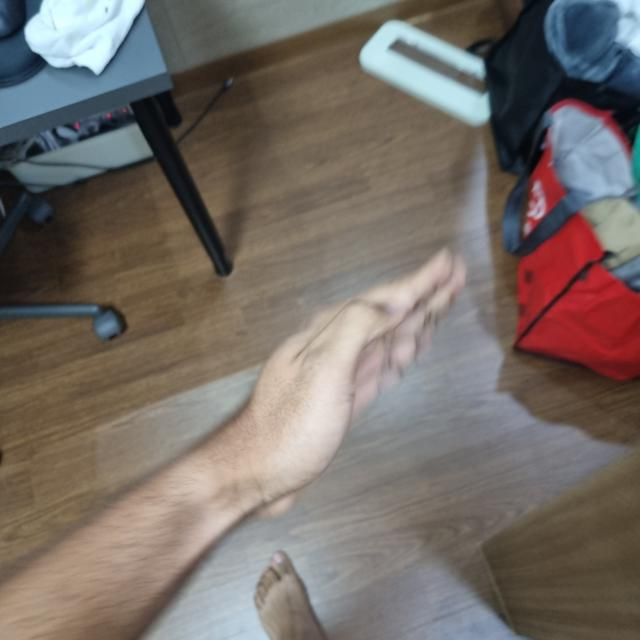Paper: (238, 253, 461, 500)
